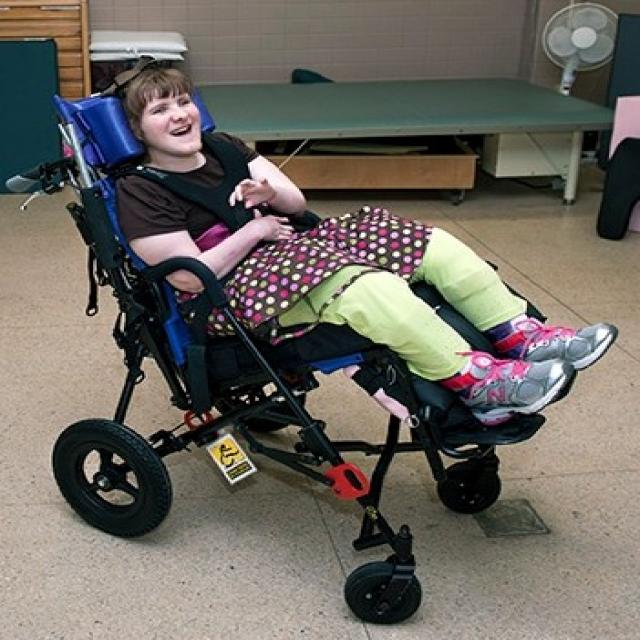wheelchairs: (6, 158, 554, 630)
